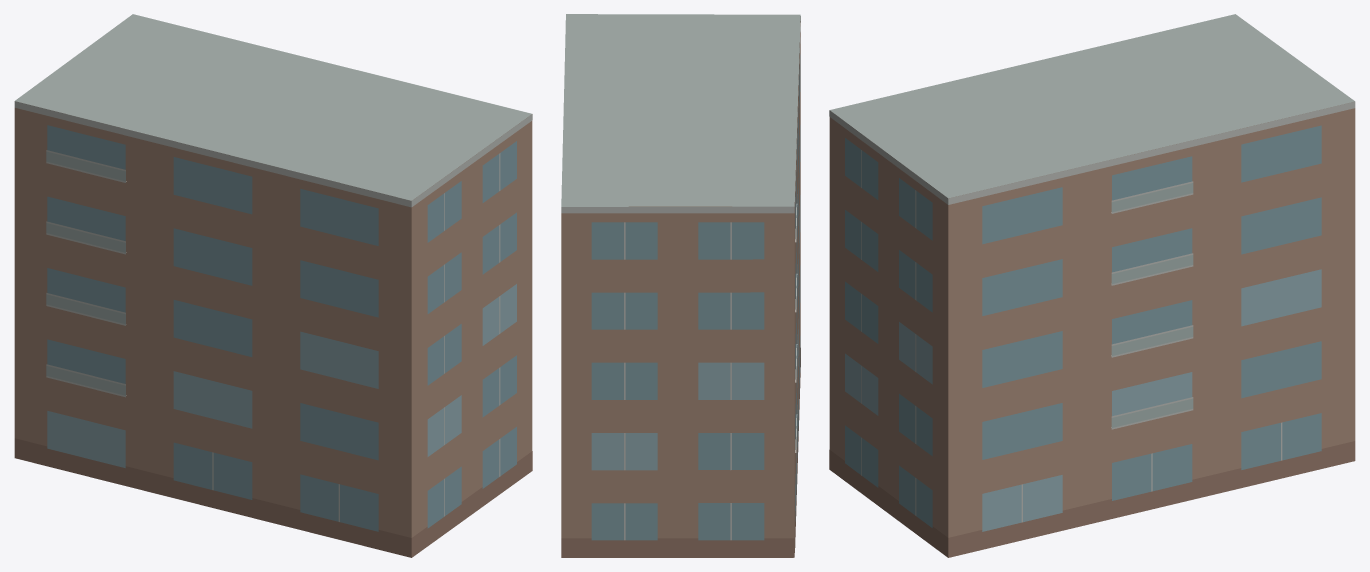
Rendered from survey-upis-32775450.glb.
The picture shows the model from 3 angles, left to right: view 1: azimuth 30°, elevation 25°; view 2: azimuth 150°, elevation 25°; view 3: azimuth 270°, elevation 25°; orthographic projection. The views are drawn at different scales.
Parts seen in each view (by area): view 1: survey-upis-32775450.tmp; view 2: survey-upis-32775450.tmp; view 3: survey-upis-32775450.tmp.
Boxes of the visible parts, left/top/right/bottom form: survey-upis-32775450.tmp: left=14, top=14, right=532, bottom=557; survey-upis-32775450.tmp: left=561, top=14, right=800, bottom=557; survey-upis-32775450.tmp: left=829, top=14, right=1355, bottom=557.
Size of the model in its own units: 14.53 by 13.2 by 17.51.
